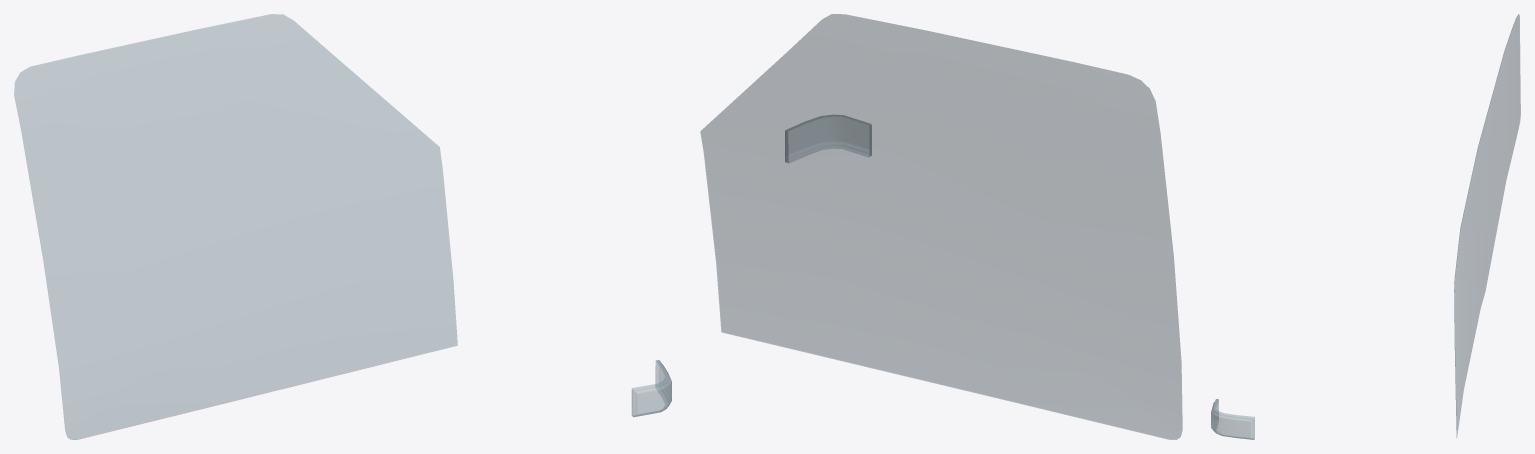
3 views of the same model, side by side, from view 1: azimuth 30°, elevation 25°; view 2: azimuth 150°, elevation 25°; view 3: azimuth 270°, elevation 25° (orthographic). The views are drawn at different scales.
Visible parts, largest first — view 1: SM_Ambulance_Door_FR_Glass_Int1; view 2: SM_Ambulance_Door_FR_Glass_Int1; view 3: SM_Ambulance_Door_FR_Glass_Int1.
Boxes of the visible parts, x1,y1,x2,y2 form: SM_Ambulance_Door_FR_Glass_Int1: (14, 14, 671, 439); SM_Ambulance_Door_FR_Glass_Int1: (700, 14, 1182, 439); SM_Ambulance_Door_FR_Glass_Int1: (1211, 14, 1520, 439).
Size of the model in its own units: 0.7905 by 0.5388 by 0.5546.
